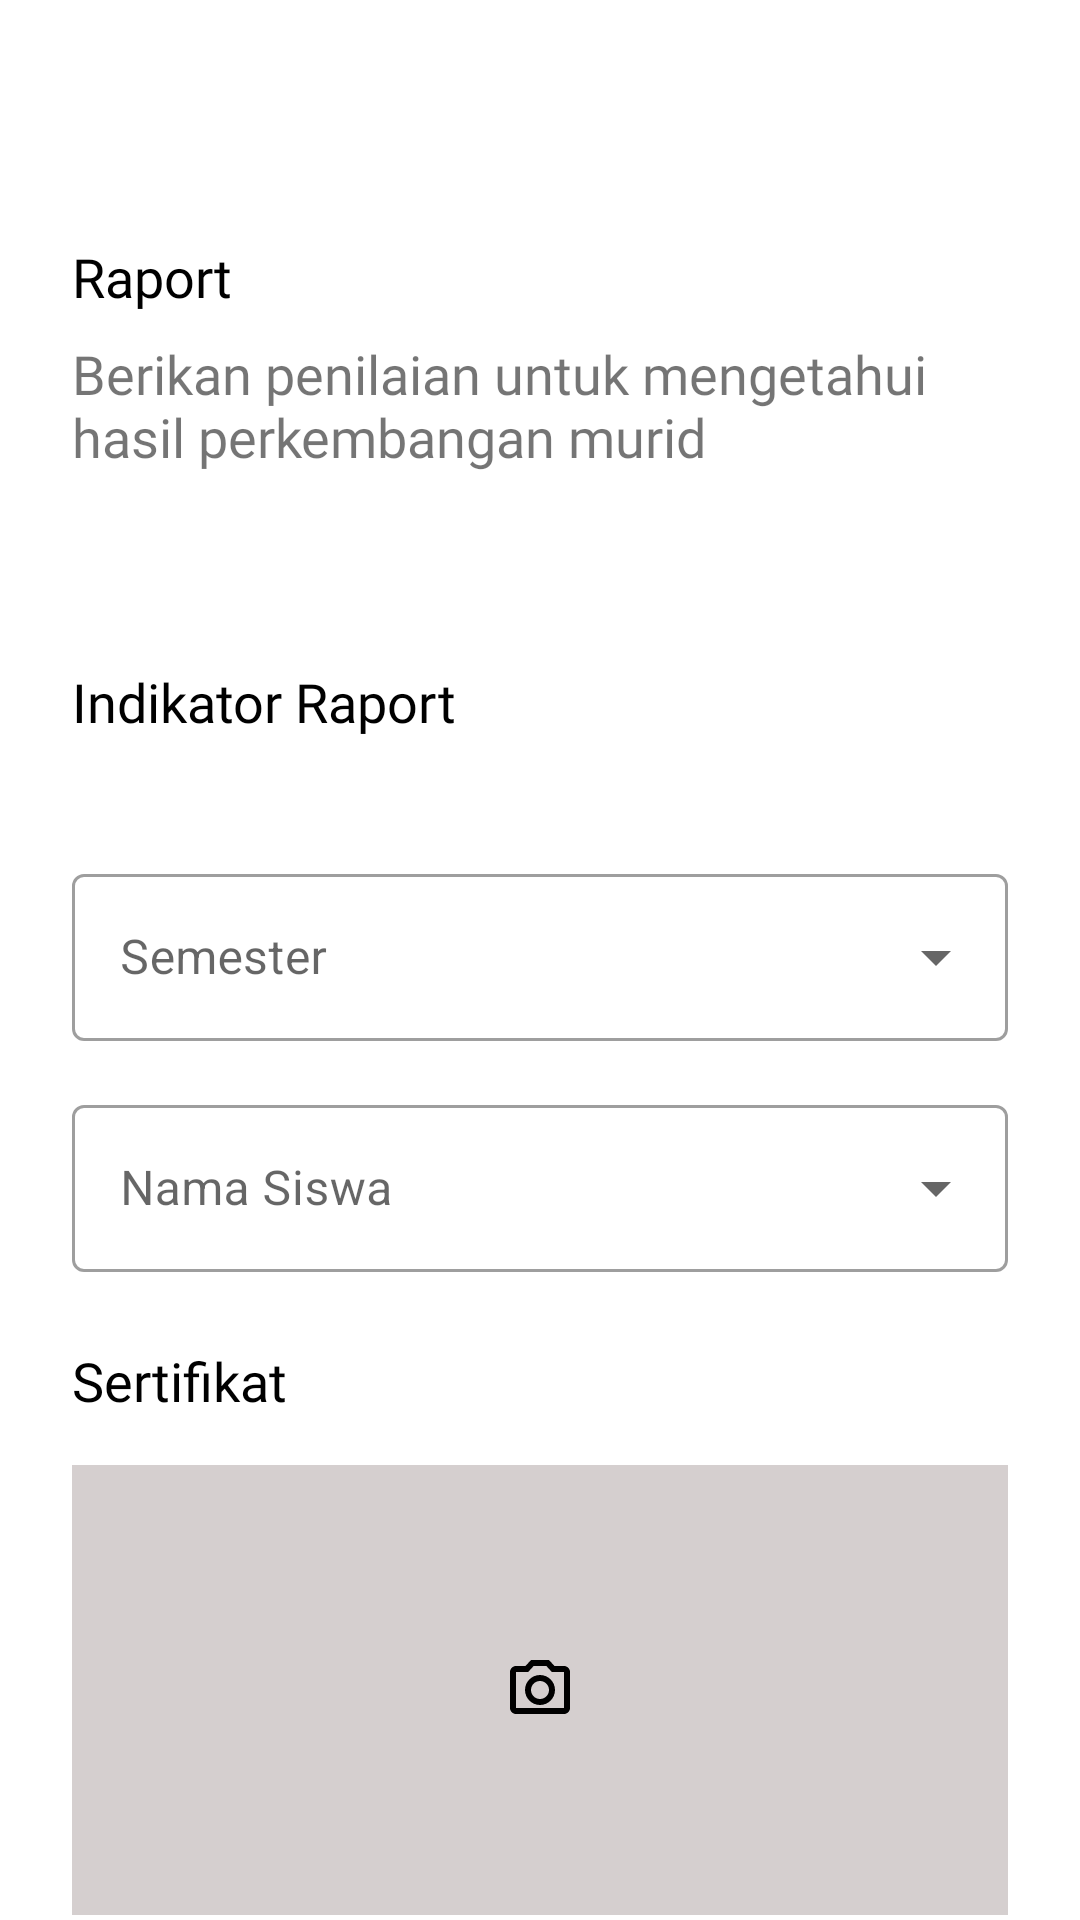

Screen size 1080x1920. Icon name, then its box in pixels as (x1, y1, x2, y2):
Icon Camera: (510, 1660, 570, 1714)
